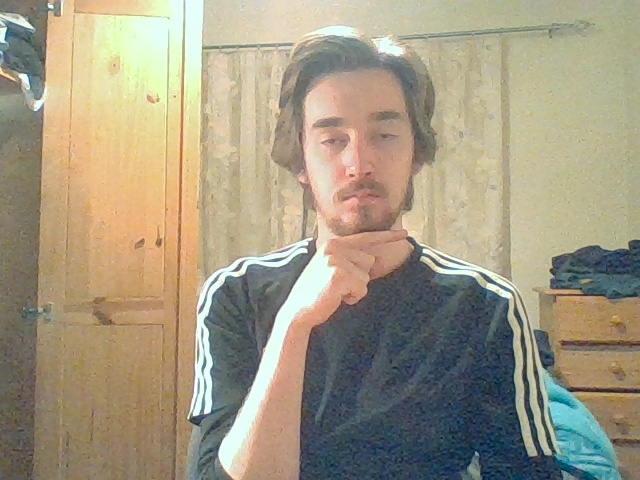son: (320, 229, 411, 304)
